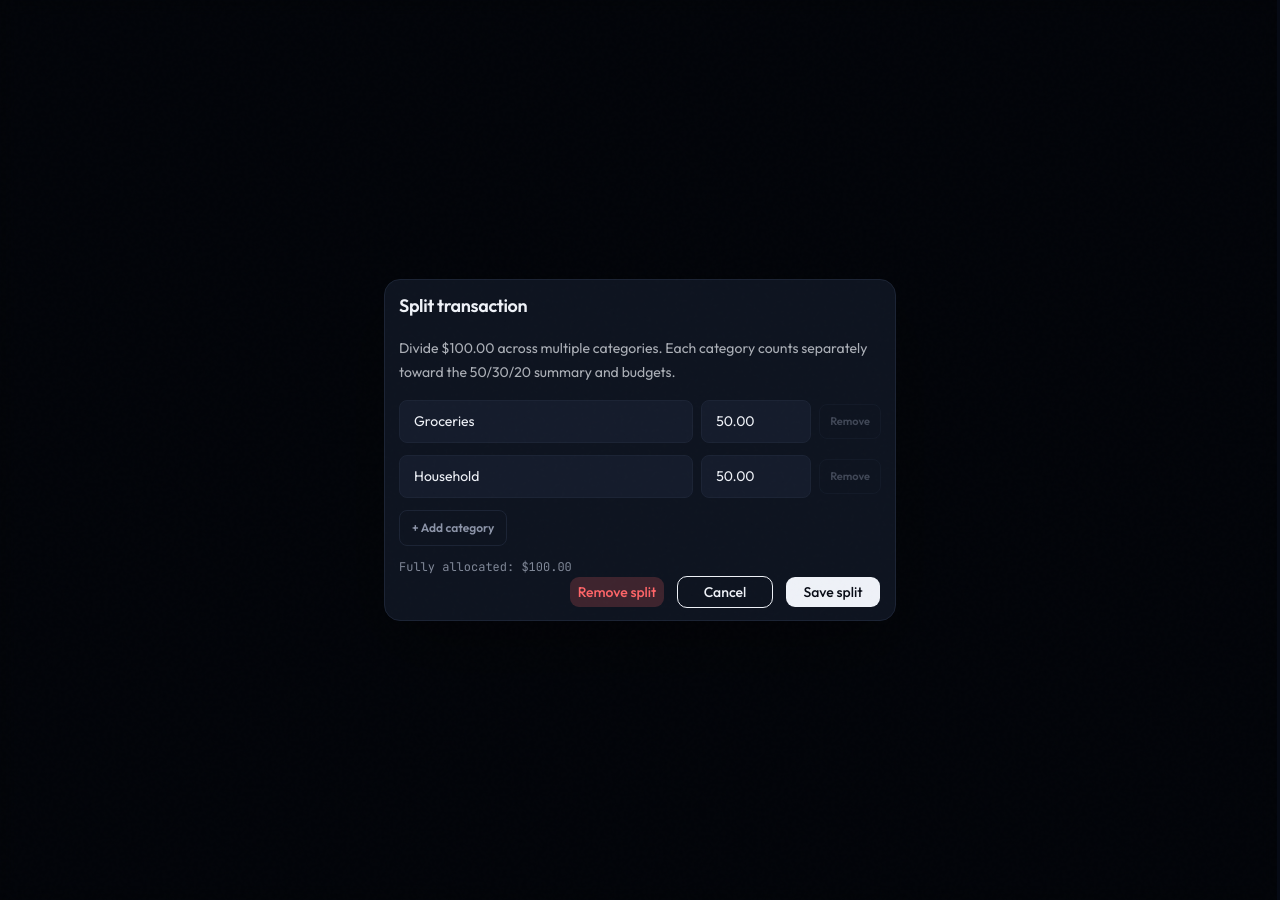
Scenario: SplitTransactionDialog › auto-fixes the other row to absorb the unallocated remainder
This screenshot has width=1280, height=900.
Replace the text in the number field named "Split 1 amount" with "60": (756, 422) [701,400,811,443]
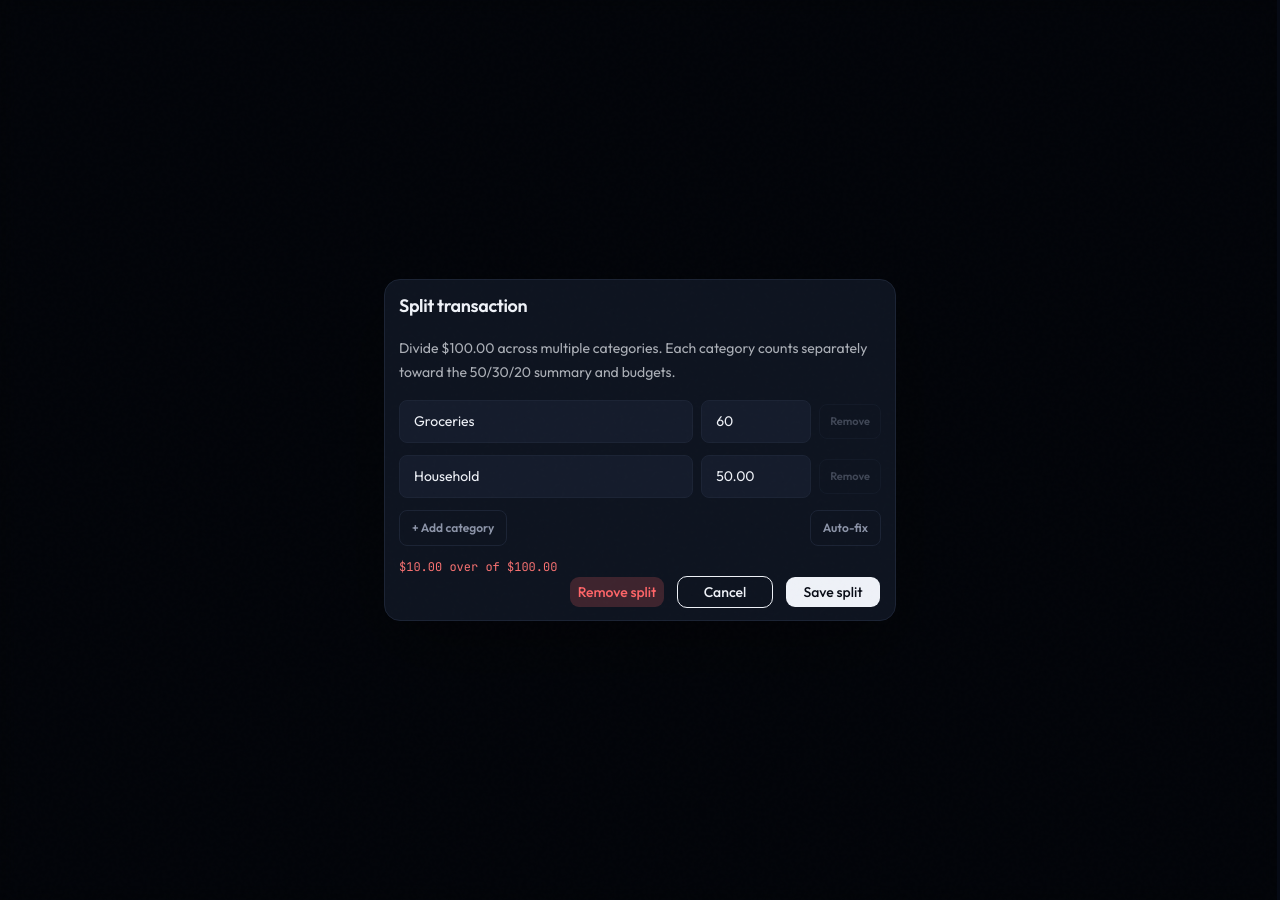
Result: the button "Auto-fix" is shown
Click the button "Auto-fix": (845, 528) [810,510,881,546]
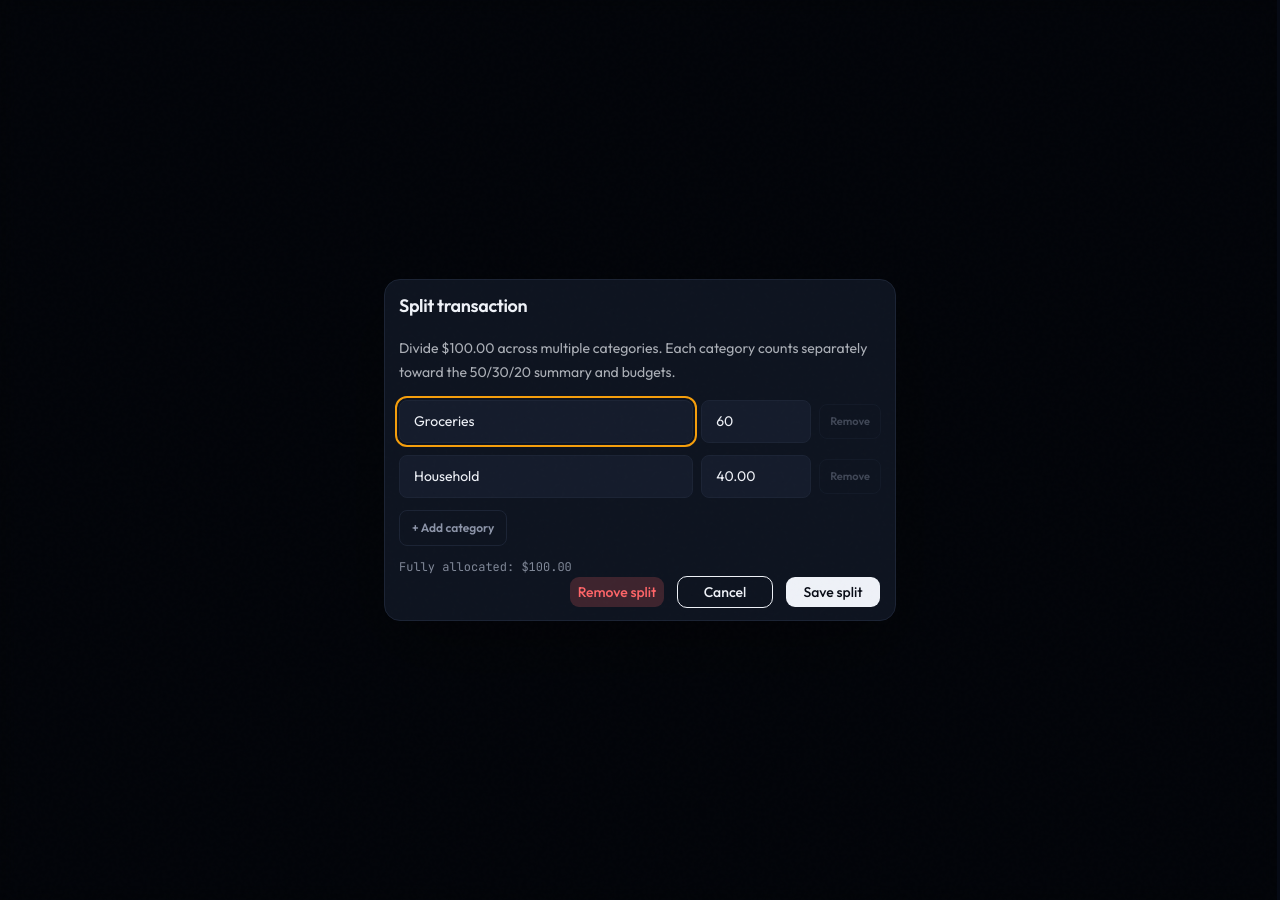
Result: the number field named "Split 2 amount" holds "40" at [701,455,811,498]
Result: the button "Auto-fix" is gone
